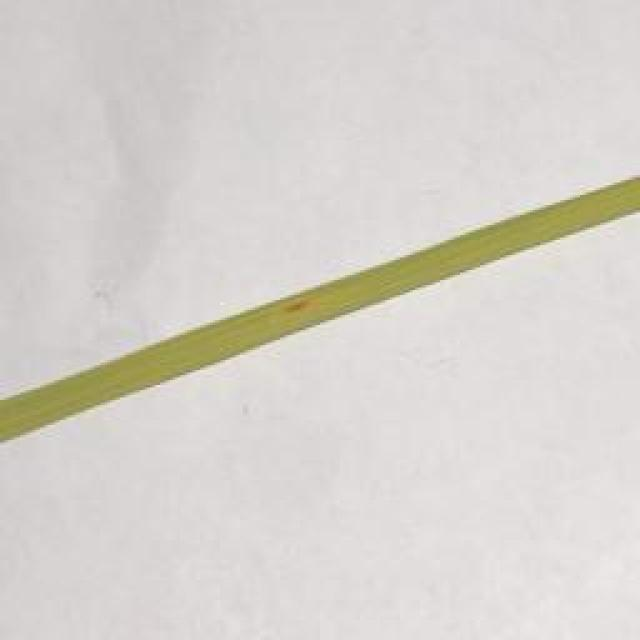Brown_Spot: (275, 292, 320, 324)
